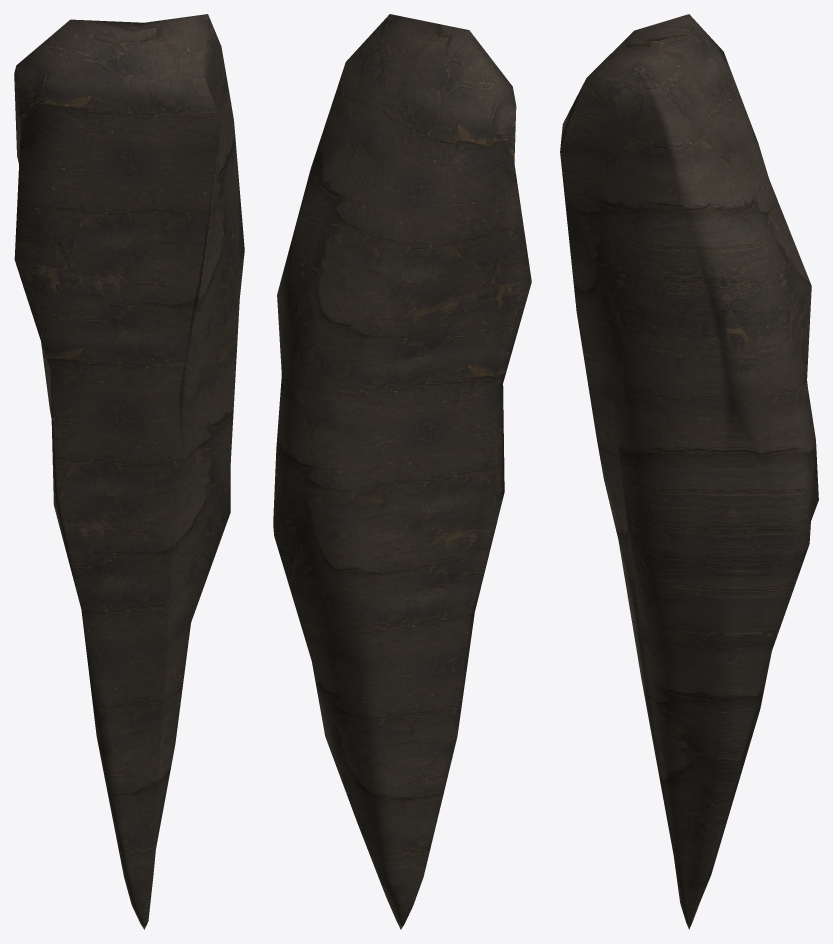
File: cliff_fang_a_lod2.gltf
3 renders of one model, left to right at view 1: azimuth 30°, elevation 25°; view 2: azimuth 150°, elevation 25°; view 3: azimuth 270°, elevation 25°, orthographic. The views are drawn at different scales.
Parts seen in each view (by area): view 1: cliff_fang_a_LOD2; view 2: cliff_fang_a_LOD2; view 3: cliff_fang_a_LOD2.
Boxes of the visible parts, bbox=[...] form: cliff_fang_a_LOD2: bbox=[14, 14, 244, 929]; cliff_fang_a_LOD2: bbox=[273, 14, 531, 929]; cliff_fang_a_LOD2: bbox=[560, 14, 818, 929].
Bounding box in the file's own units: 7.95 × 30 × 7.98.
Materials: 1 (1 with a texture image).
